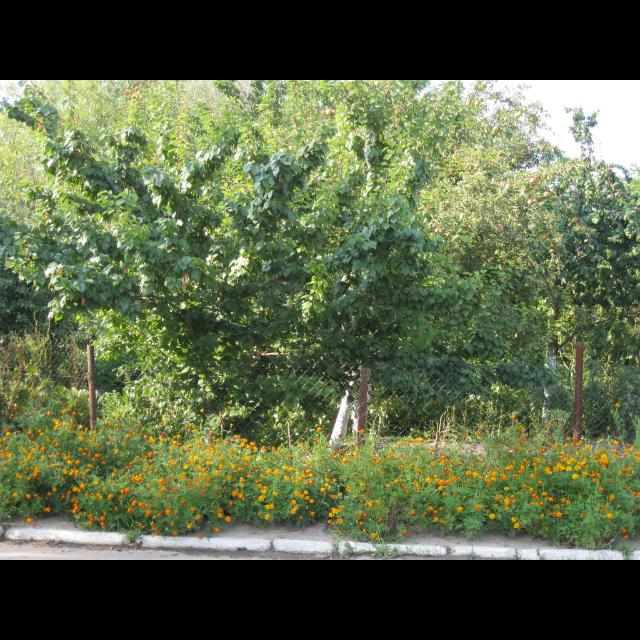Flower: (1, 403, 640, 541)
